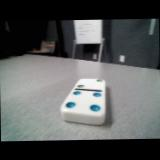domino: (61, 78, 105, 125)
